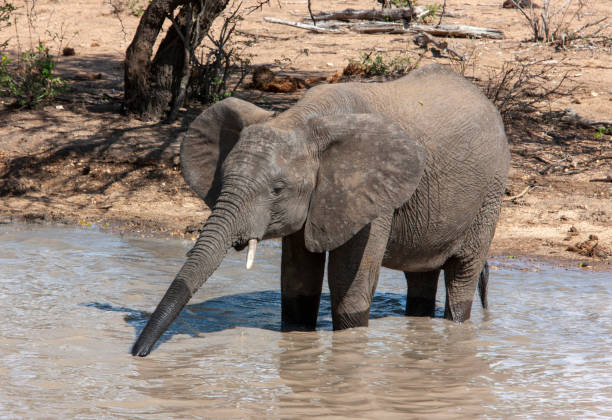africanelephant: (170, 93, 413, 267)
